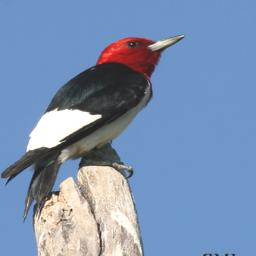Woodpecker: (0, 34, 192, 223)
